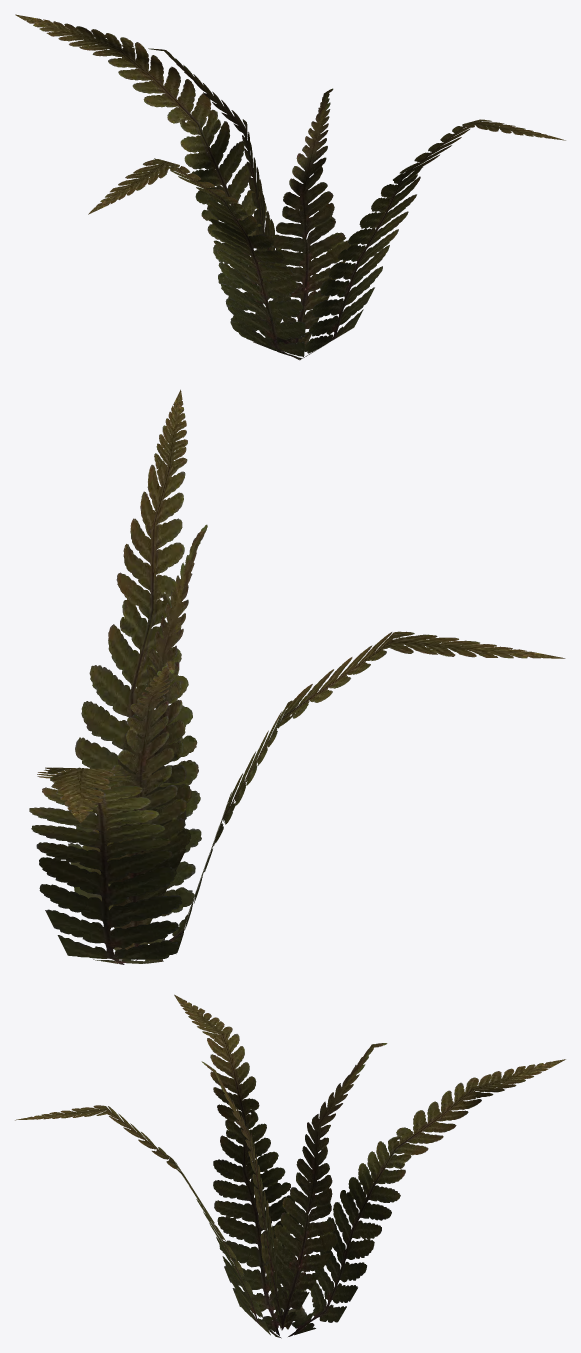
Rendered from GS_NATURE_PLANT_09.glb.
3 renders of one model, top to bottom at view 1: azimuth 30°, elevation 25°; view 2: azimuth 150°, elevation 25°; view 3: azimuth 270°, elevation 25°, orthographic. The views are drawn at different scales.
Parts seen in each view (by area): view 1: Mesh; view 2: Mesh; view 3: Mesh.
Boxes of the visible parts, x1,y1,x2,y2 form: Mesh: [15, 14, 565, 360]; Mesh: [29, 389, 565, 964]; Mesh: [15, 994, 565, 1338].
Size of the model in its own units: 3.2 by 2.67 by 4.5.
1 material, 1 textured.
